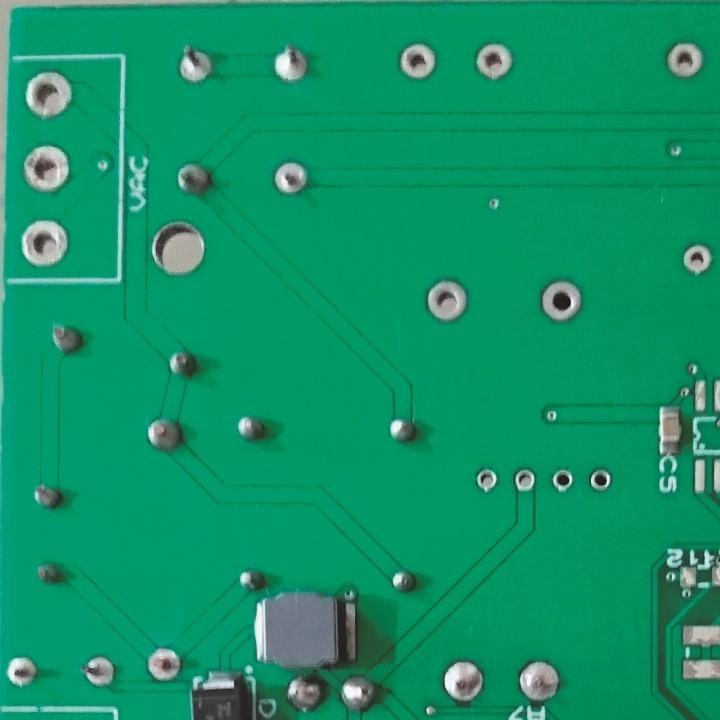F: (18, 217, 73, 275), (19, 144, 78, 194), (22, 72, 80, 121), (424, 274, 474, 326), (516, 657, 560, 706), (436, 662, 487, 701), (540, 278, 579, 326), (271, 41, 313, 85), (665, 40, 706, 80), (476, 40, 515, 82), (174, 46, 215, 85), (272, 157, 311, 198), (398, 43, 437, 80), (6, 652, 38, 690), (152, 648, 184, 686), (86, 656, 121, 689), (548, 464, 573, 498), (681, 243, 713, 267), (474, 466, 501, 494), (510, 466, 536, 495), (587, 463, 610, 483)
